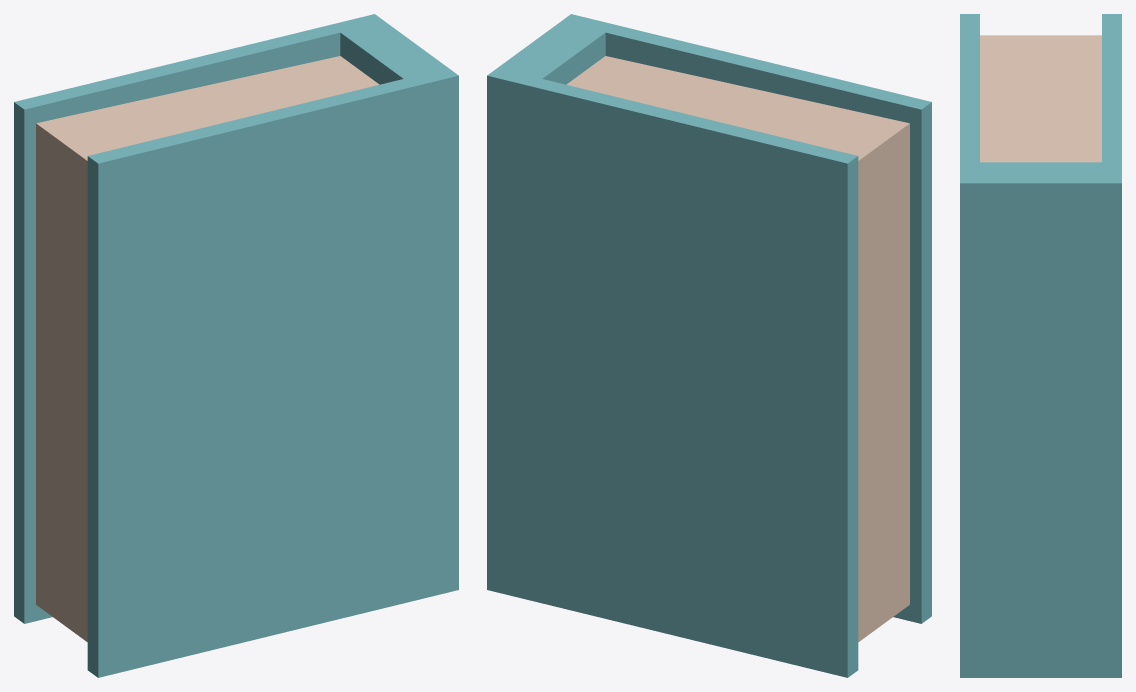
Rendered from Book4.fbx.
The picture shows the model from 3 angles, left to right: view 1: azimuth 30°, elevation 25°; view 2: azimuth 150°, elevation 25°; view 3: azimuth 270°, elevation 25°; orthographic projection. The views are drawn at different scales.
Visible parts, largest first — view 1: Cube.203; view 2: Cube.203; view 3: Cube.203.
Boxes of the visible parts, x1,y1,x2,y2 form: Cube.203: (14,14,458,677); Cube.203: (487,14,931,677); Cube.203: (960,14,1121,677).
Size of the model in its own units: 44.72 by 60.92 by 18.08.
